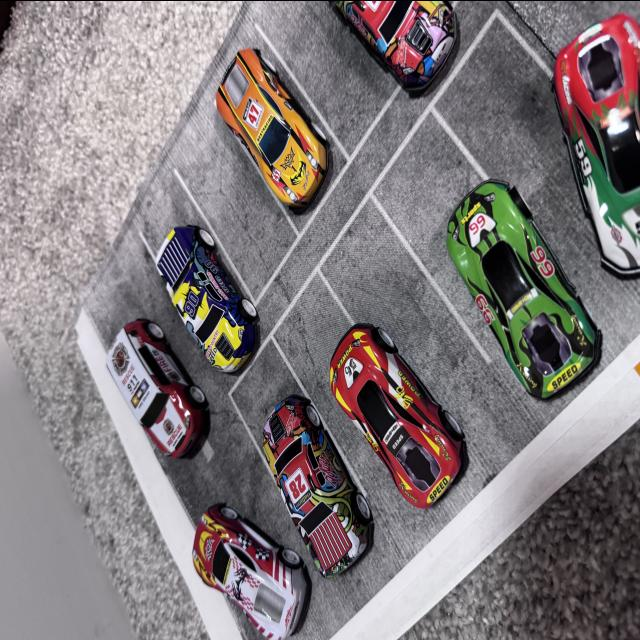Car: (437, 164, 640, 412), (312, 300, 498, 530), (185, 367, 310, 640), (175, 37, 345, 226), (240, 387, 390, 582), (543, 0, 640, 265), (100, 335, 216, 493), (334, 0, 458, 136), (157, 216, 250, 372)
